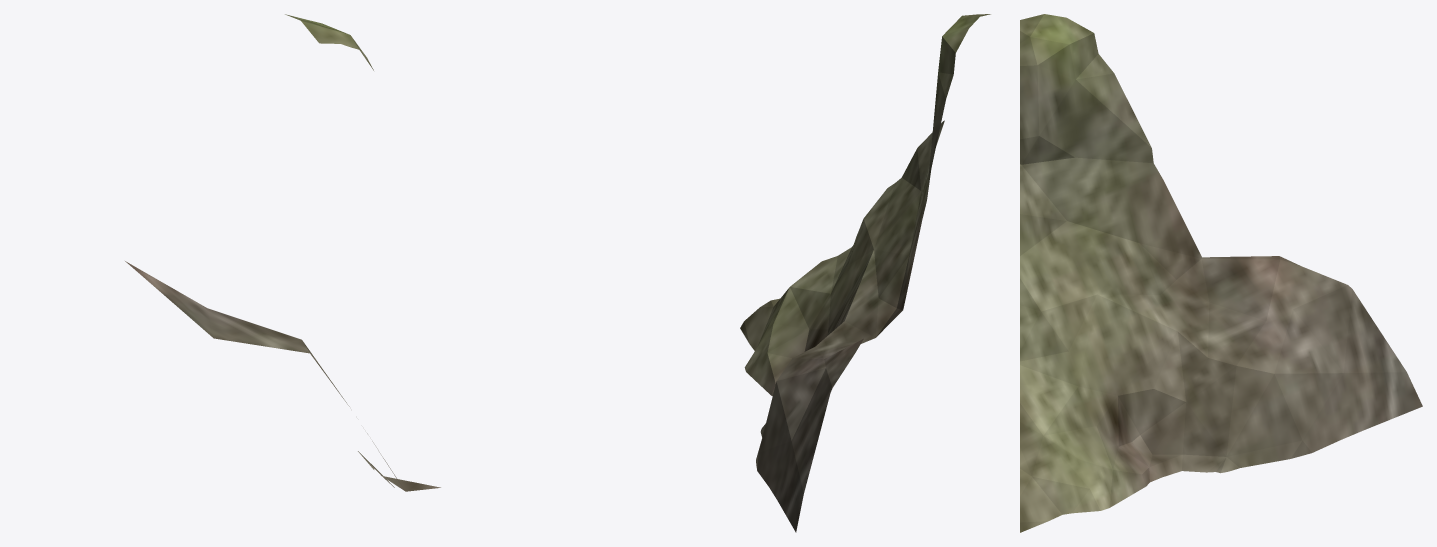
3 renders of one model, left to right at view 1: azimuth 30°, elevation 25°; view 2: azimuth 150°, elevation 25°; view 3: azimuth 270°, elevation 25°, orthographic. The views are drawn at different scales.
Bounding box in the file's own units: 0.8186 × 1.18 × 1.1.
Materials: 1 (1 with a texture image).
